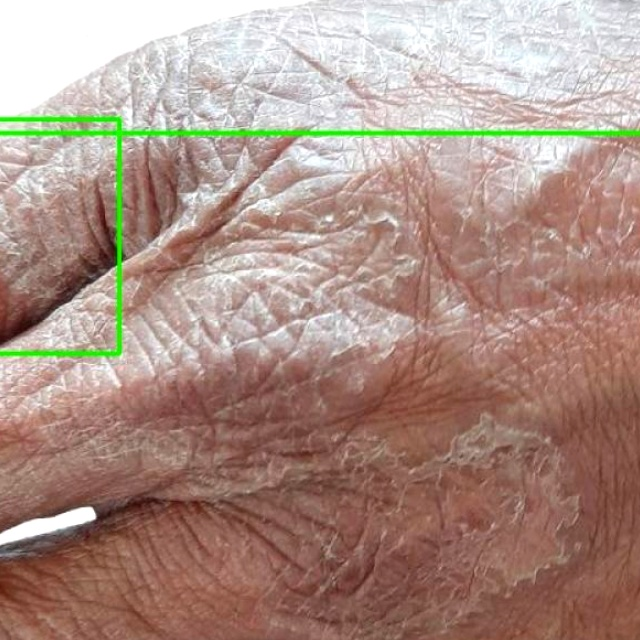Contact Dermatitis: (0, 0, 639, 133), (0, 119, 119, 353)
